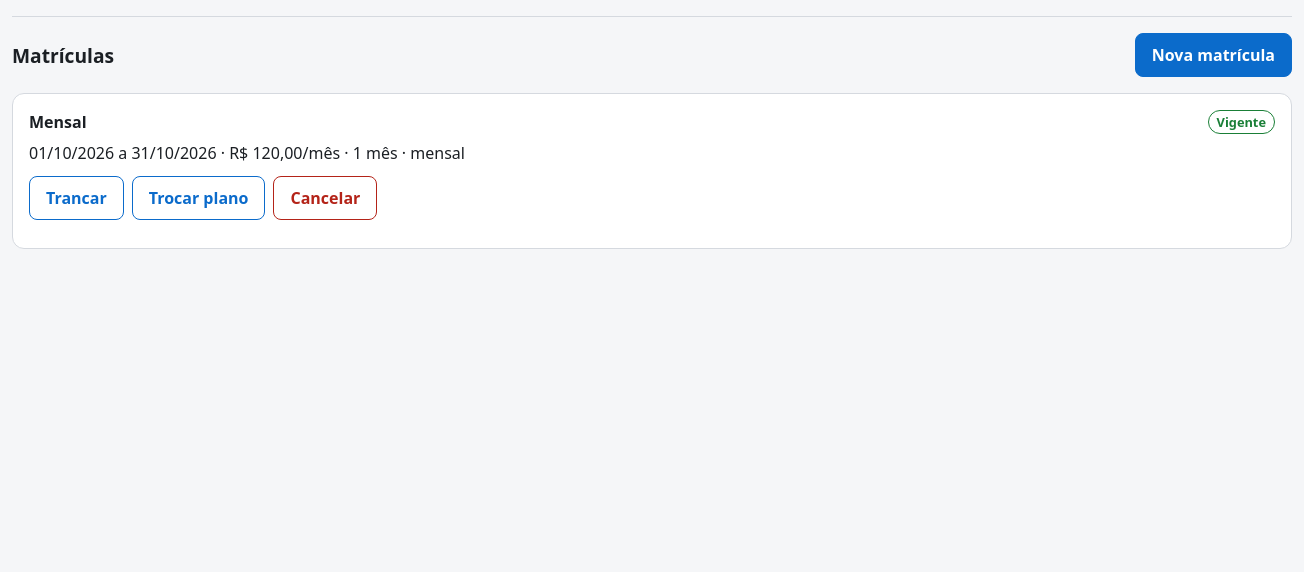
Test case: matrículas do aluno › erro da API na ação aparece e o formulário continua aberto
This screenshot has width=1304, height=572.
Click the button "Trancar" at [76, 198], box [29,176,124,220]
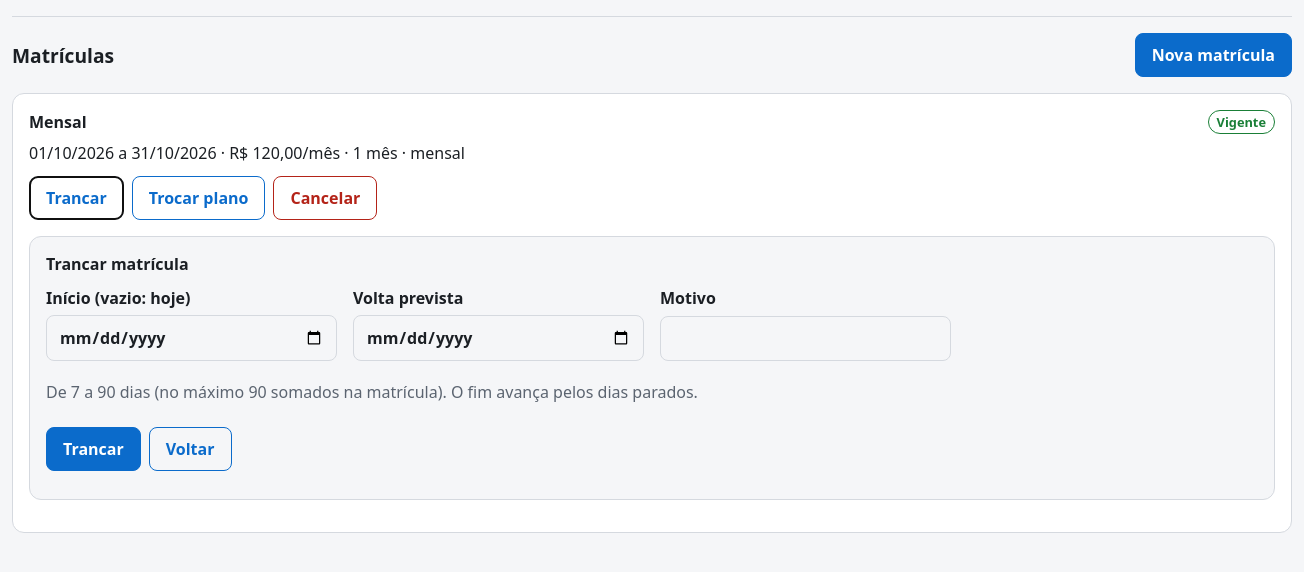
Type "2030-01-10" into the date field labelled "Volta prevista" at [498, 338], box [353,315,644,361]
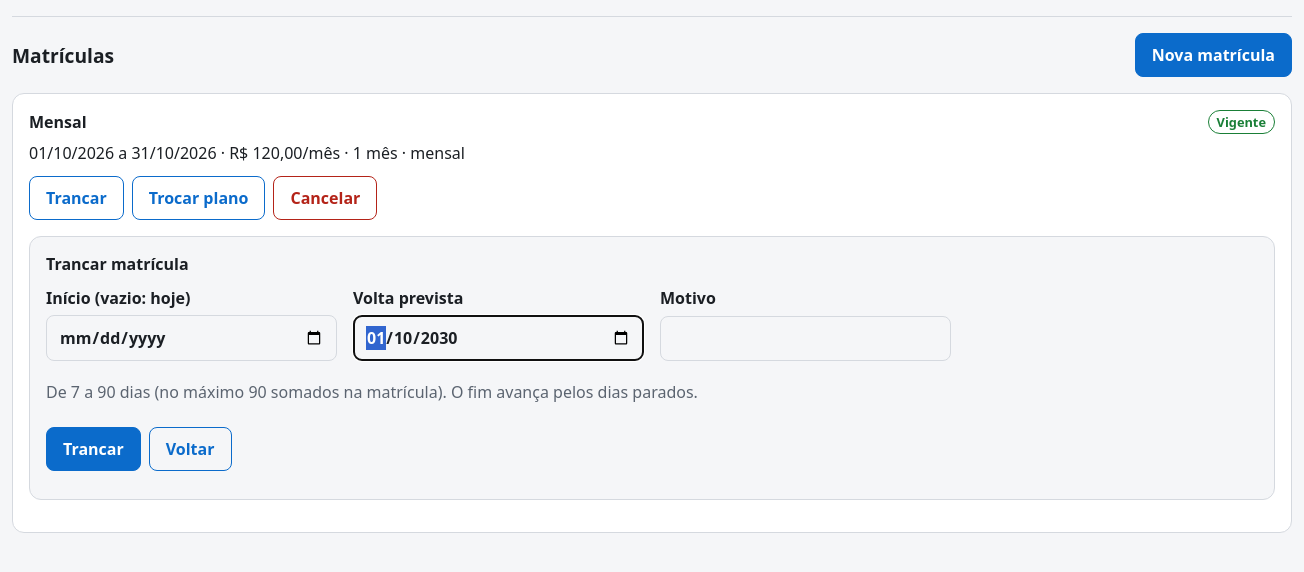
Type "x" into the field labelled "Motivo" at [806, 338], box [660,316,951,361]
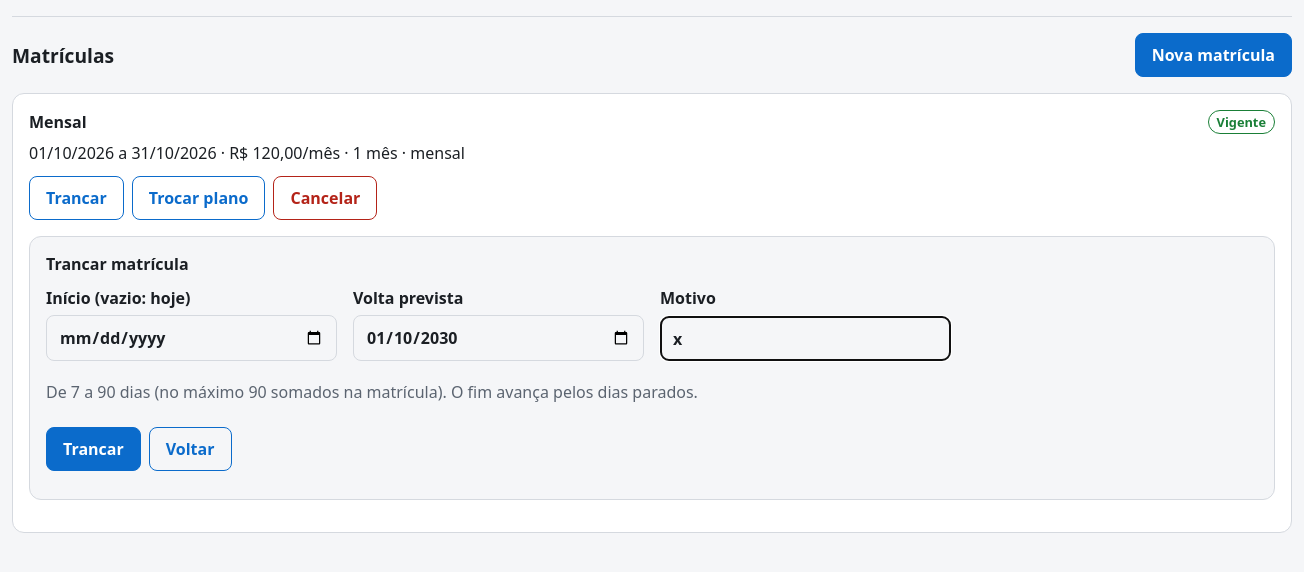
Click the button "Trancar" below "Início (vazio: hoje)" at [93, 449], box [46,427,141,471]
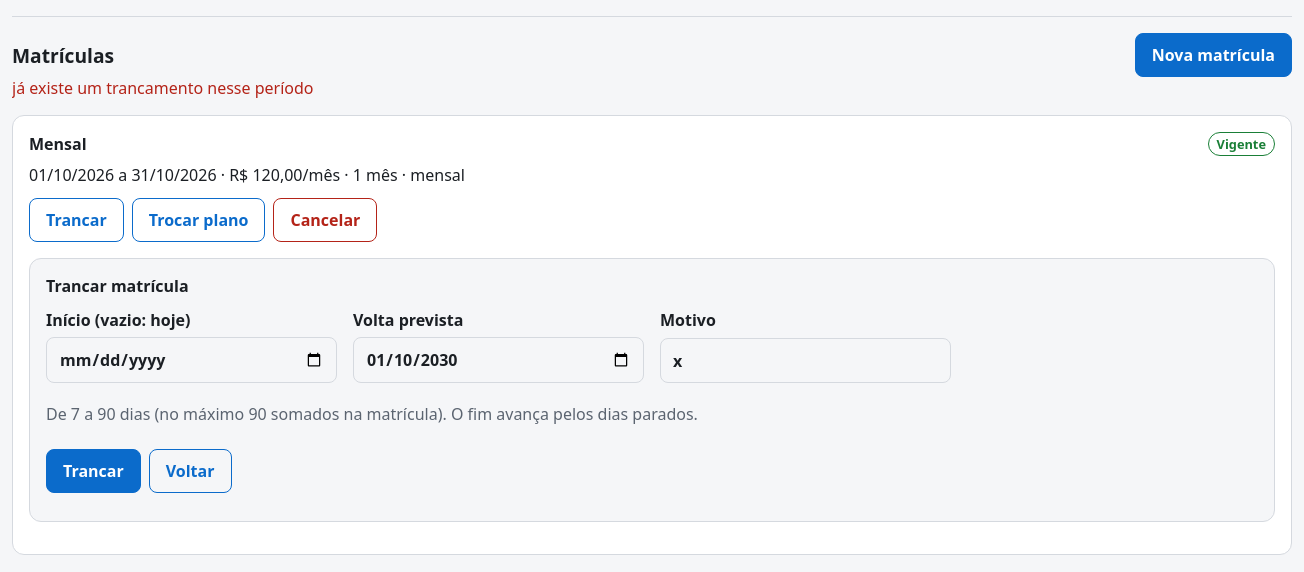
Check: the form "Trancar matrícula" is shown, box [29,258,1275,522]
Check: the message reads "já existe um trancamento nesse período", box [12,77,314,99]
